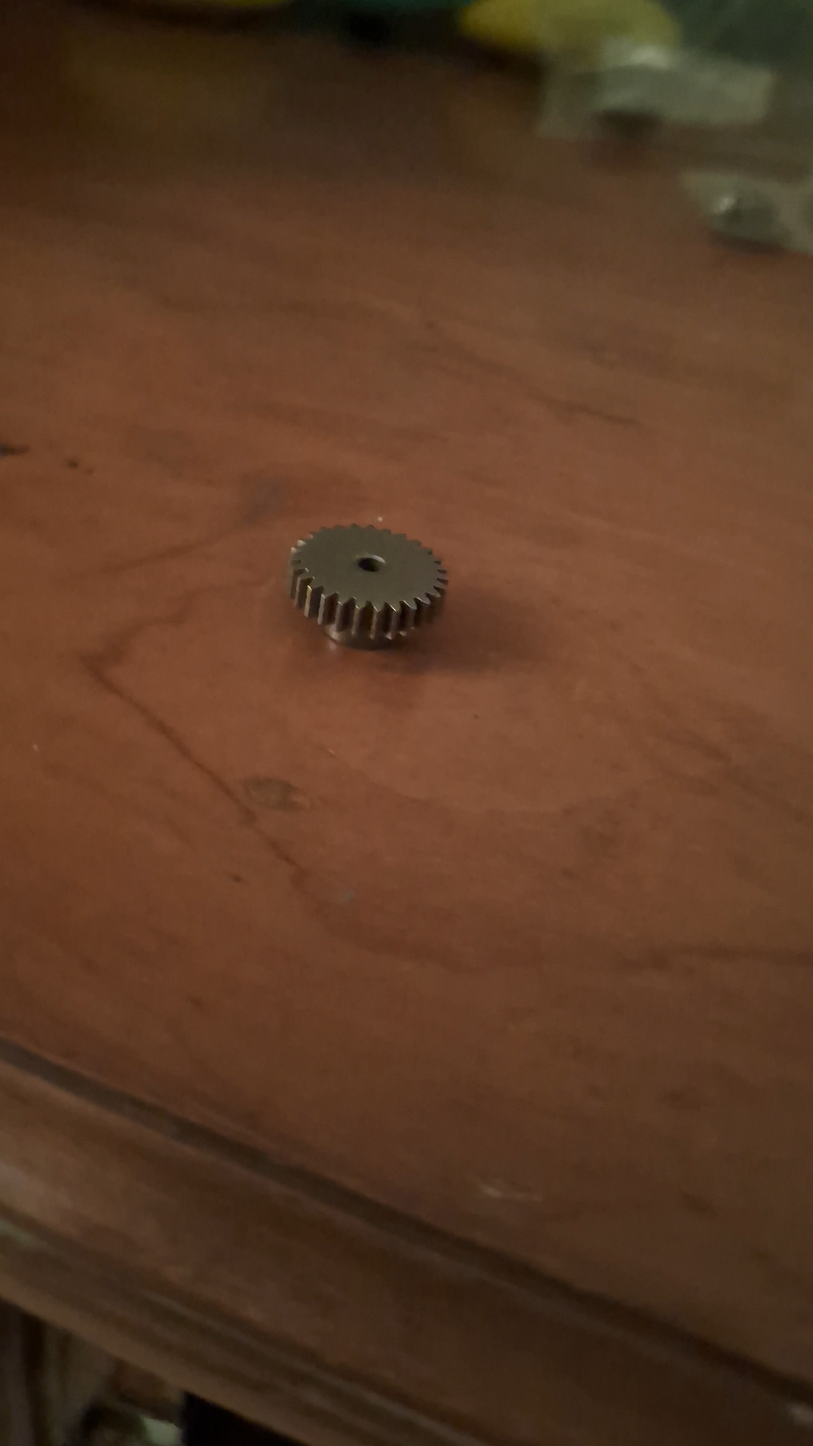spur gear: (290, 525, 447, 647)
